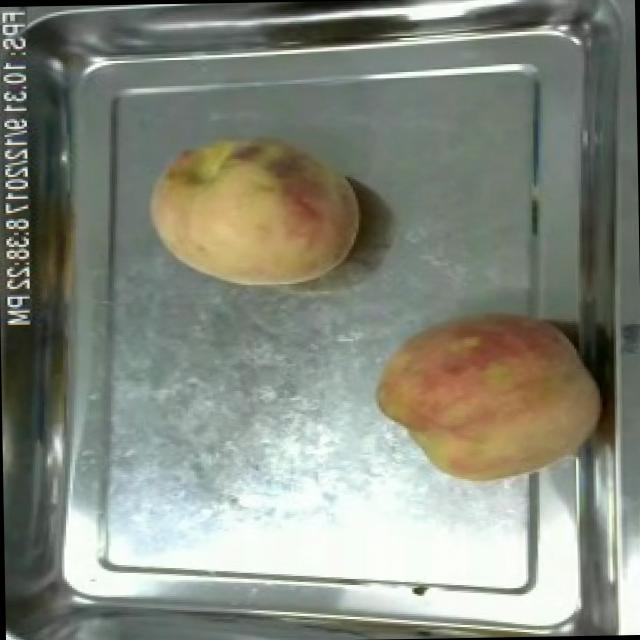Fruit: (370, 297, 610, 493), (140, 121, 369, 295)
